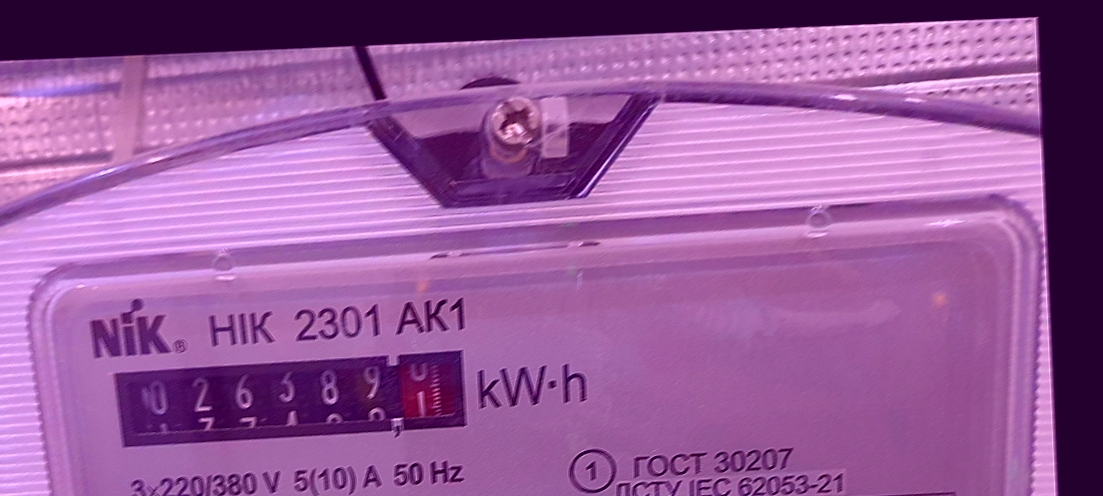0: (145, 376, 170, 416), (409, 360, 428, 382)
1: (414, 387, 428, 419)
2: (189, 374, 214, 413)
3: (276, 369, 295, 404)
6: (233, 371, 253, 411)
8: (319, 367, 341, 406)
9: (362, 364, 381, 399)
screen: (99, 338, 482, 459)
